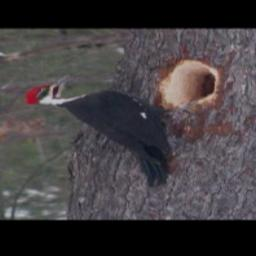Woodpecker: (21, 74, 207, 187)
